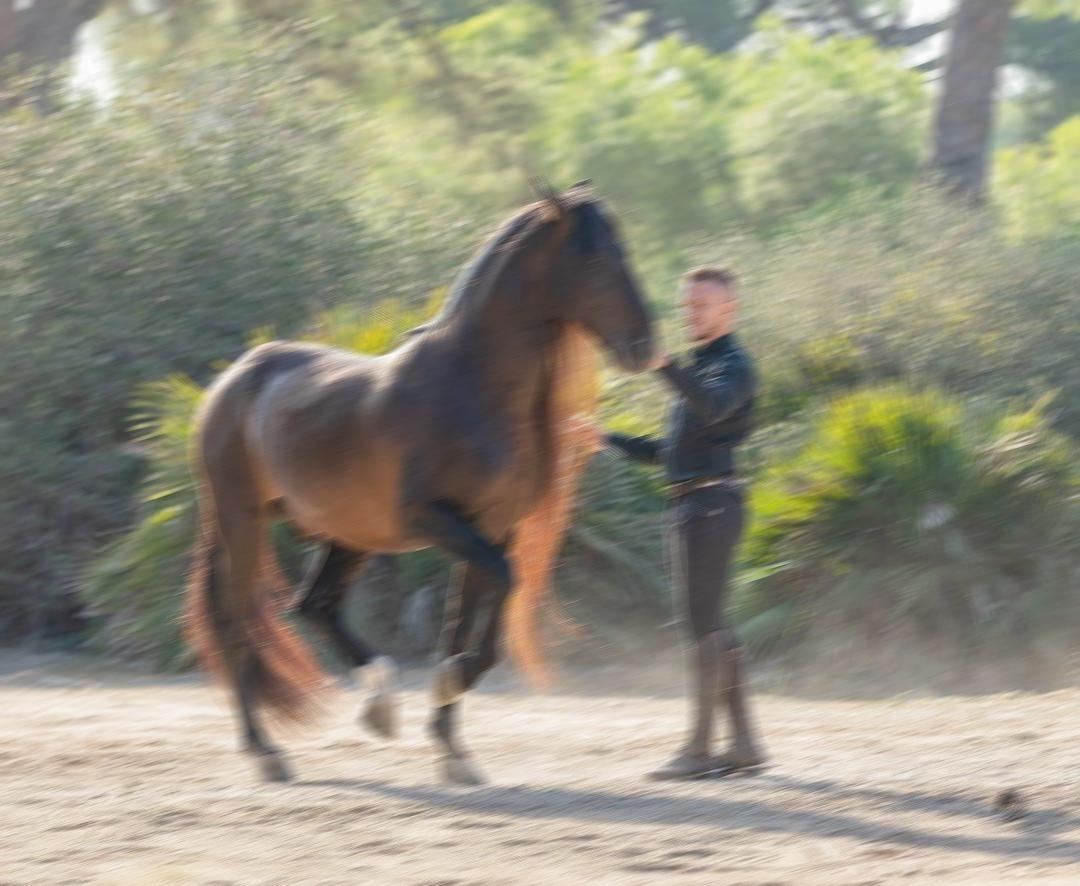horse: (181, 175, 662, 786)
